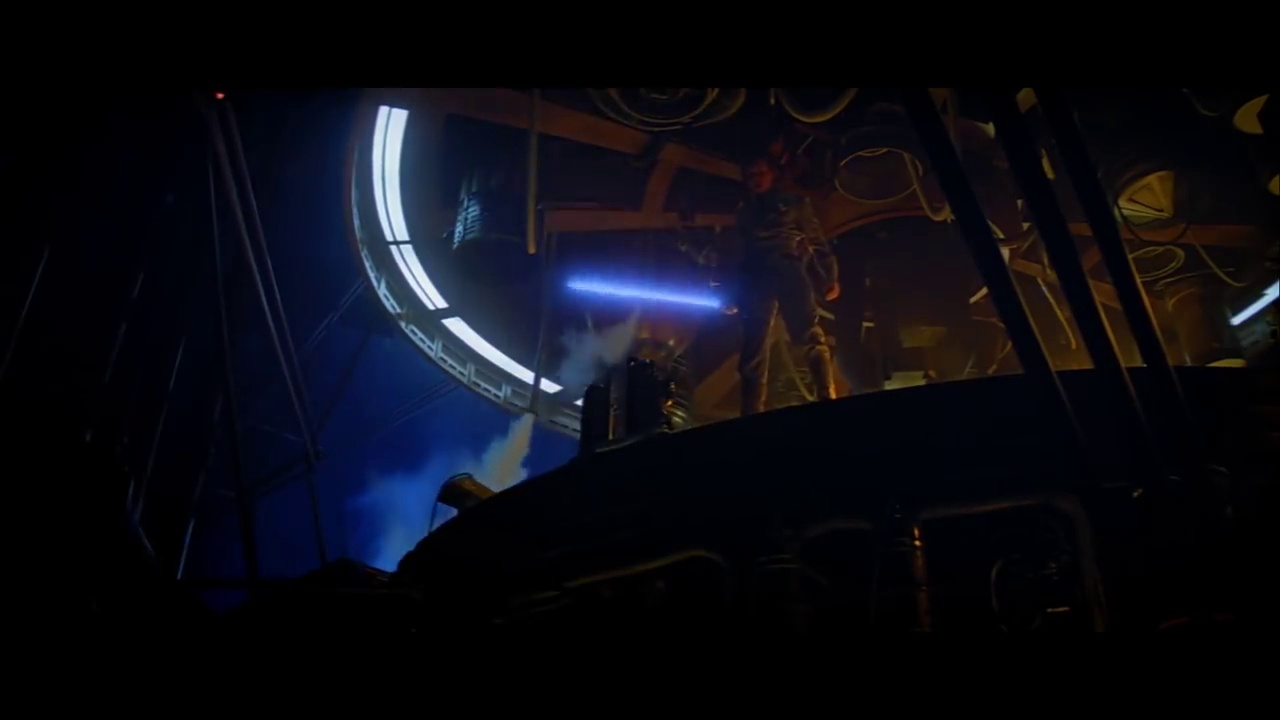lightsaber: (543, 270, 752, 318)
